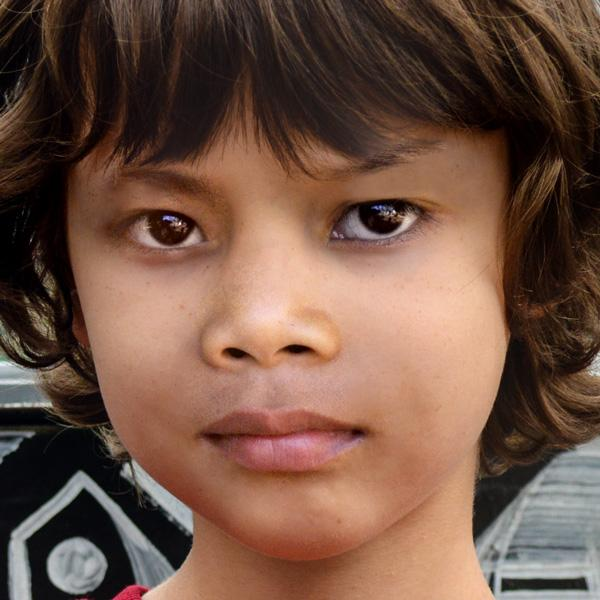Eyes: (317, 186, 438, 259), (100, 196, 219, 267)
